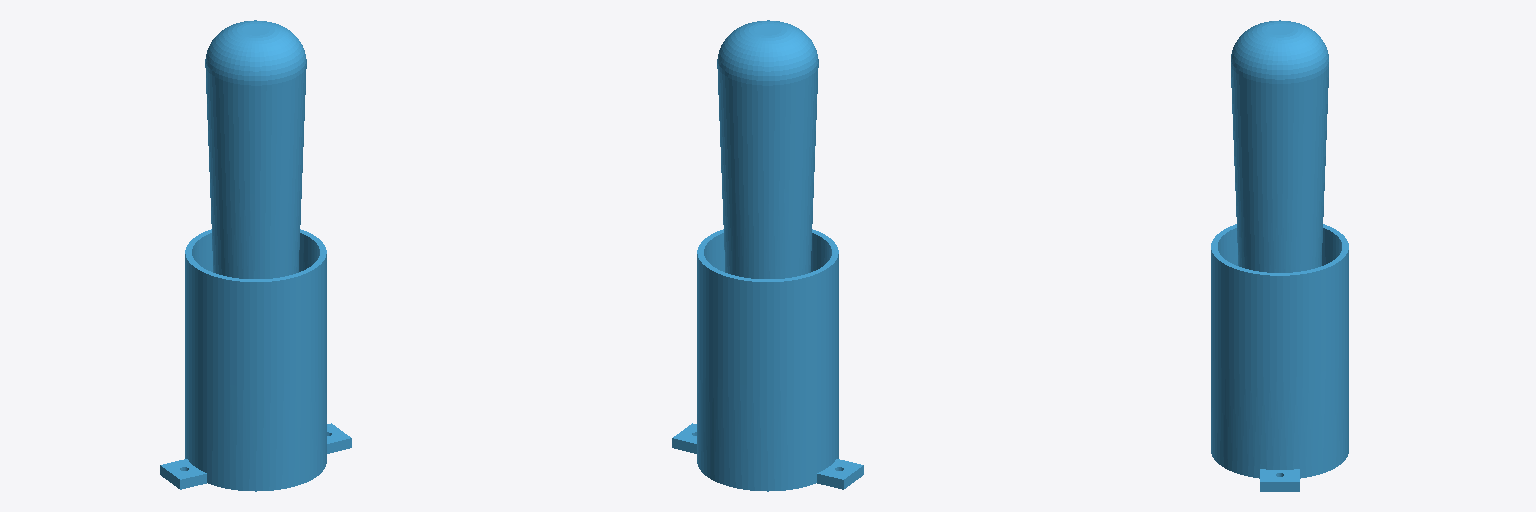
URDF robot description (pestle):
<?xml version="1.0" ?>
<!-- =================================================================================== -->
<!-- |    This document was autogenerated by xacro from pestle.urdf.xacro              | -->
<!-- |    EDITING THIS FILE BY HAND IS NOT RECOMMENDED                                 | -->
<!-- =================================================================================== -->
<robot name="pestle">
  <link name="base_link"/>
  <joint name="pestle_joint" type="fixed">
    <parent link="base_link"/>
    <child link="pestle_link"/>
  </joint>
  <link name="pestle_link">
    <visual>
      <geometry>
        <mesh filename="package://grinding_descriptions/mesh/jig_pestle_140.stl"/>
      </geometry>
      <origin rpy="0 0 0" xyz="0 0 0"/>
    </visual>
  </link>
</robot>

--- Facts derived from the render (not from the file) ---
Views: 3 orthographic renders of the robot side by side, from view 1: azimuth 30°, elevation 25°; view 2: azimuth 150°, elevation 25°; view 3: azimuth 270°, elevation 25°.
Model pestle with 2 links and 1 joints (1 fixed), rooted at base_link, posed all joints at 0.
Links seen in each view (by area): view 1: pestle_link; view 2: pestle_link; view 3: pestle_link.
Link boxes in pixels (x1,y1,x2,y2): pestle_link: (160,20,351,491); pestle_link: (672,20,863,491); pestle_link: (1211,20,1348,491).
Bounding box of the posed robot: 0.054 × 0.0386 × 0.13 m (x, y, z).
1 mesh visuals loaded from 1 distinct referenced files (1 binary STL).